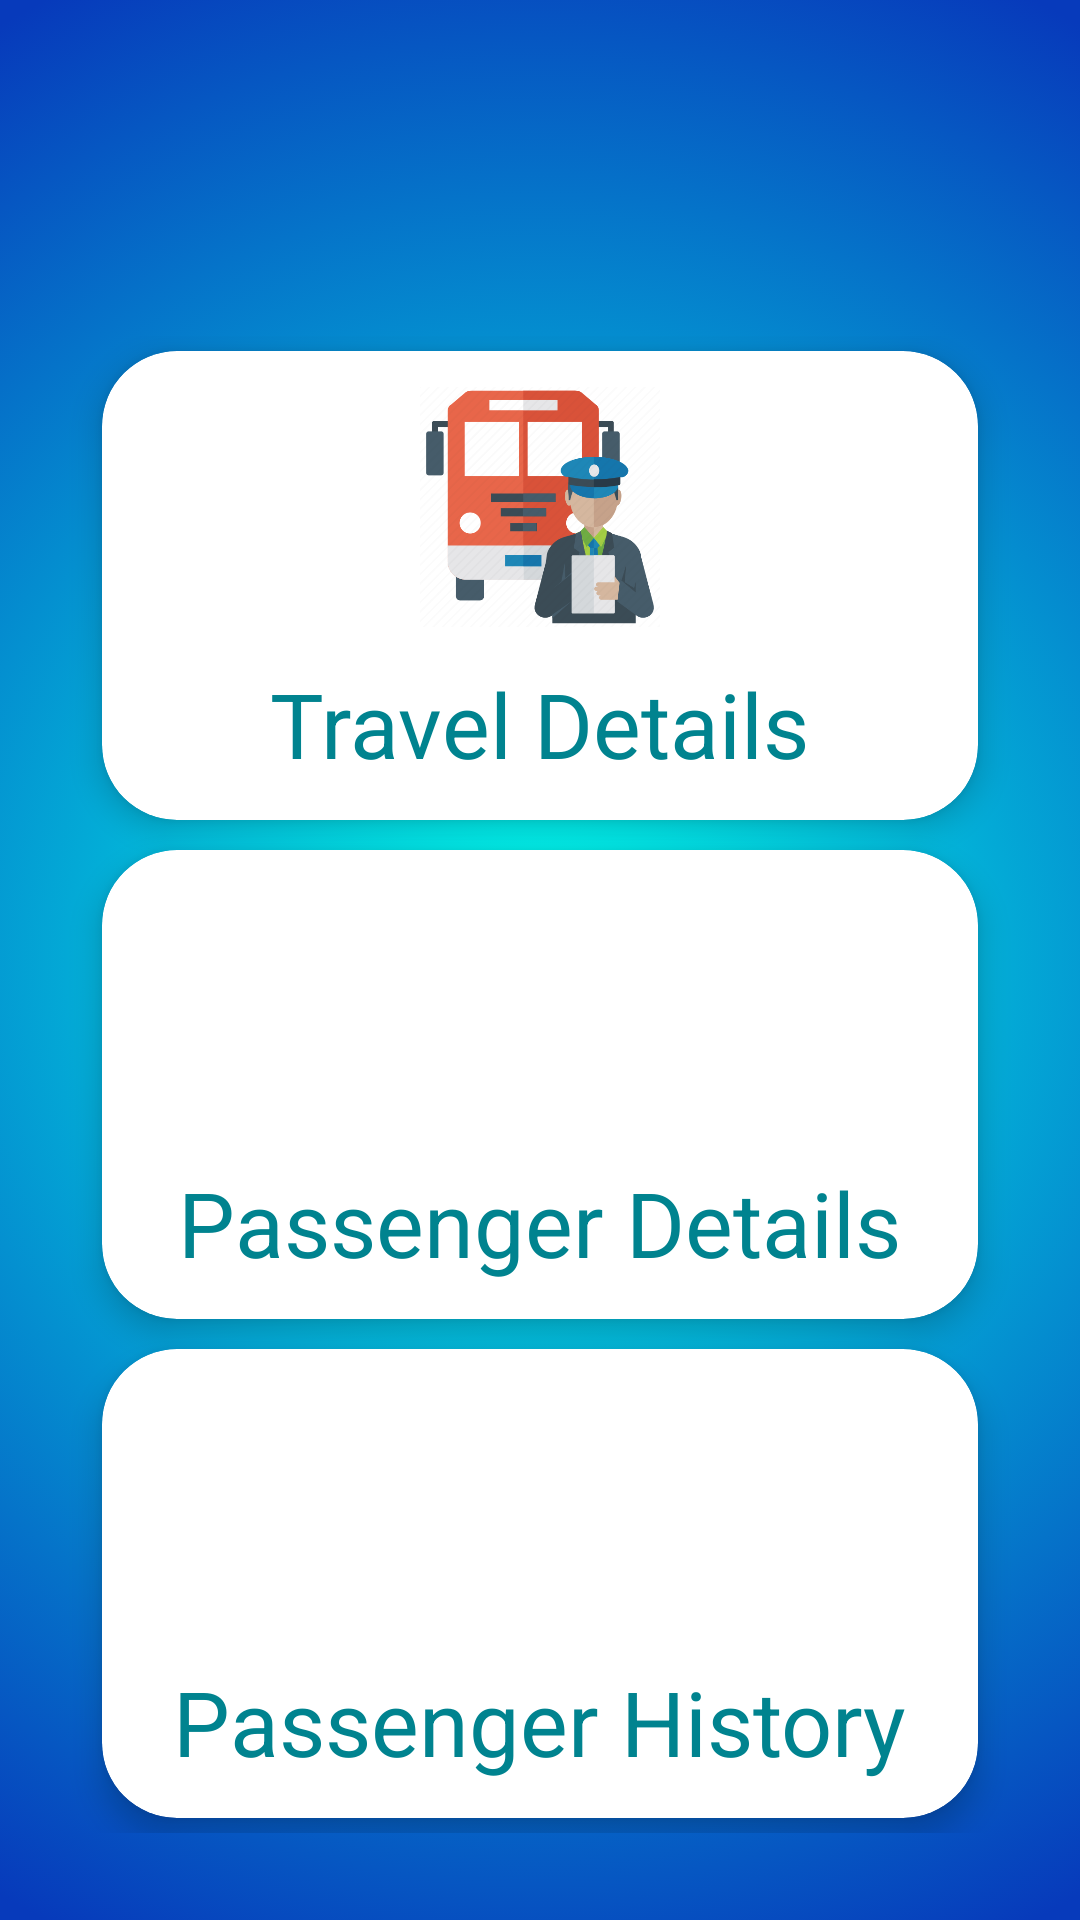

Icons on this 1080px×1920px Android screen, each with its box as [x1,y1,x2,y2]:
driverdetails: [426,390,654,624]
